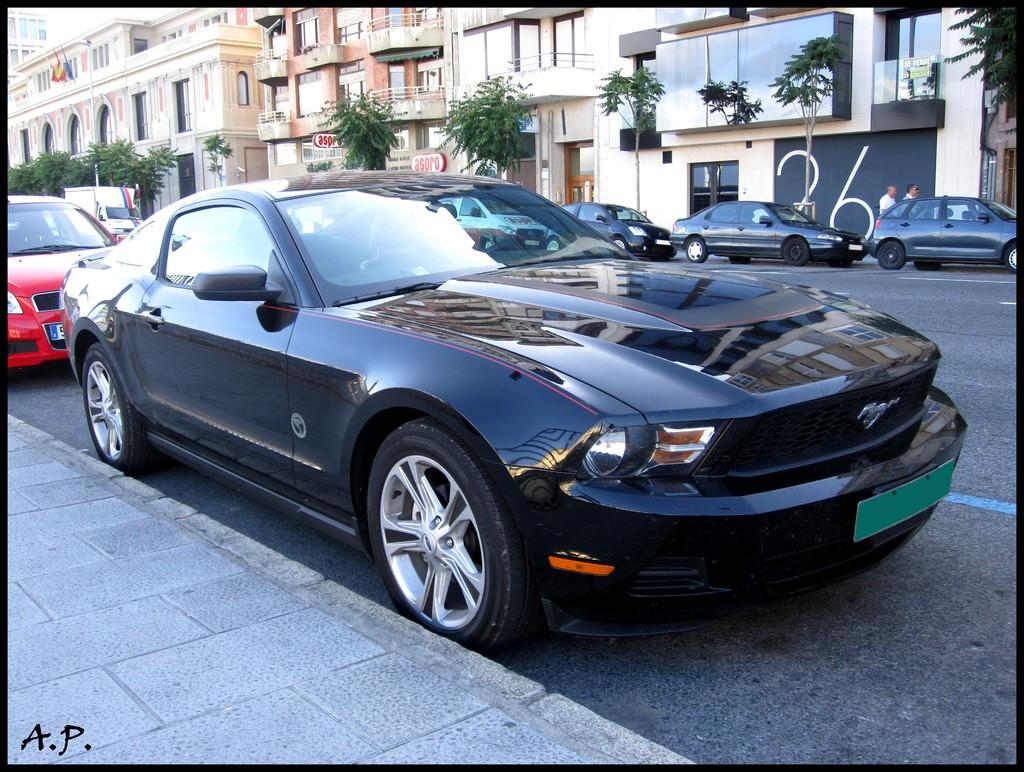mobil: (64, 170, 971, 661)
